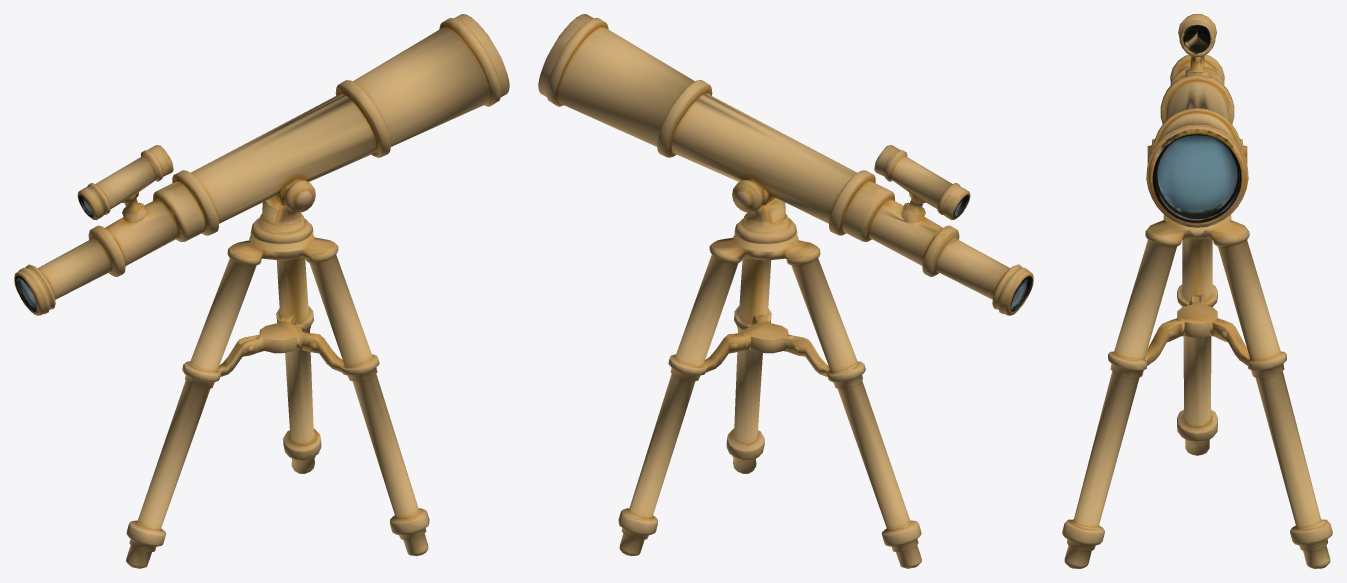
Rendered from Decor__a_brass_telescope_4a2de8bd_v4.cluster.glb.
3 views of the same model, side by side, from view 1: azimuth 30°, elevation 25°; view 2: azimuth 150°, elevation 25°; view 3: azimuth 270°, elevation 25° (orthographic). The views are drawn at different scales.
Visible parts, largest first — view 1: material; view 2: material; view 3: material.
Boxes of the visible parts, x1,y1,x2,y2 form: material: (14,14,509,568); material: (538,14,1033,568); material: (1062,14,1332,568).
Size of the model in its own units: 1.9 by 1.79 by 0.8845.
Materials: 1 (1 with a texture image).
